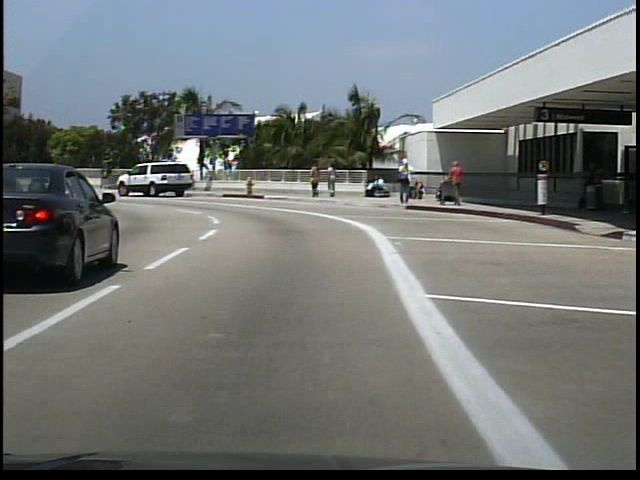person: (395, 156, 413, 211), (452, 159, 470, 207), (326, 161, 341, 202), (309, 161, 323, 200), (364, 177, 387, 200)
